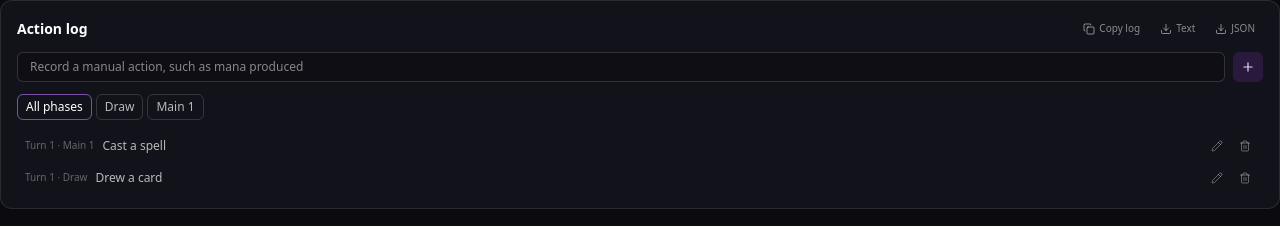
Test: PlaytestActionLog › filters visible actions by phase without changing the complete log
The image size is (1280, 226).
What coordinates should you click on to do the following:
click the button "Draw"
I would click on:
 (120, 107)
Its box is x1=96 y1=94 x2=143 y2=120.
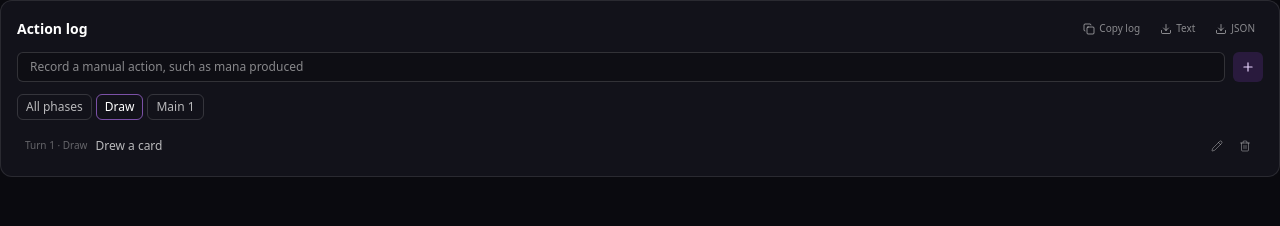
Expected: the text "Drew a card" is shown, x1=96 y1=137 x2=162 y2=154
Expected: the text "Cast a spell" is gone
